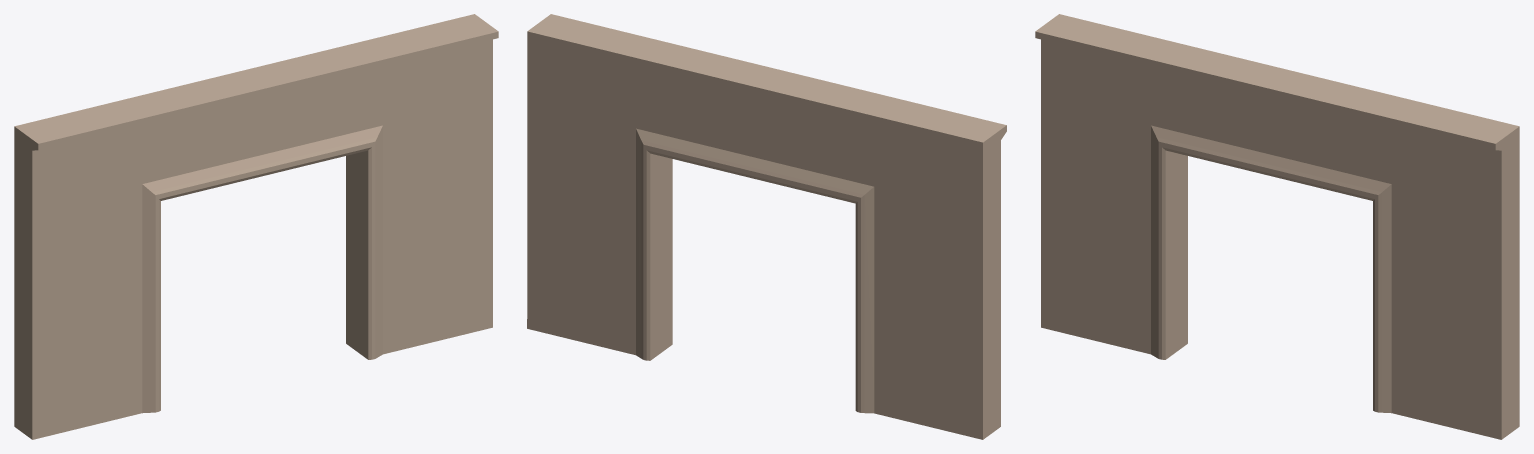
File: F_bossromm_door_frame.fbx
The picture shows the model from 3 angles, left to right: view 1: azimuth 30°, elevation 25°; view 2: azimuth 150°, elevation 25°; view 3: azimuth 330°, elevation 25°; orthographic projection.
Parts seen in each view (by area): view 1: boss_door_frame; view 2: boss_door_frame; view 3: boss_door_frame.
Part boxes in pixels (<box>): boss_door_frame: <box>14,14,498,439</box>; boss_door_frame: <box>527,14,1006,439</box>; boss_door_frame: <box>1035,14,1519,439</box>.
Size of the model in its own units: 368 by 230 by 37.39.
